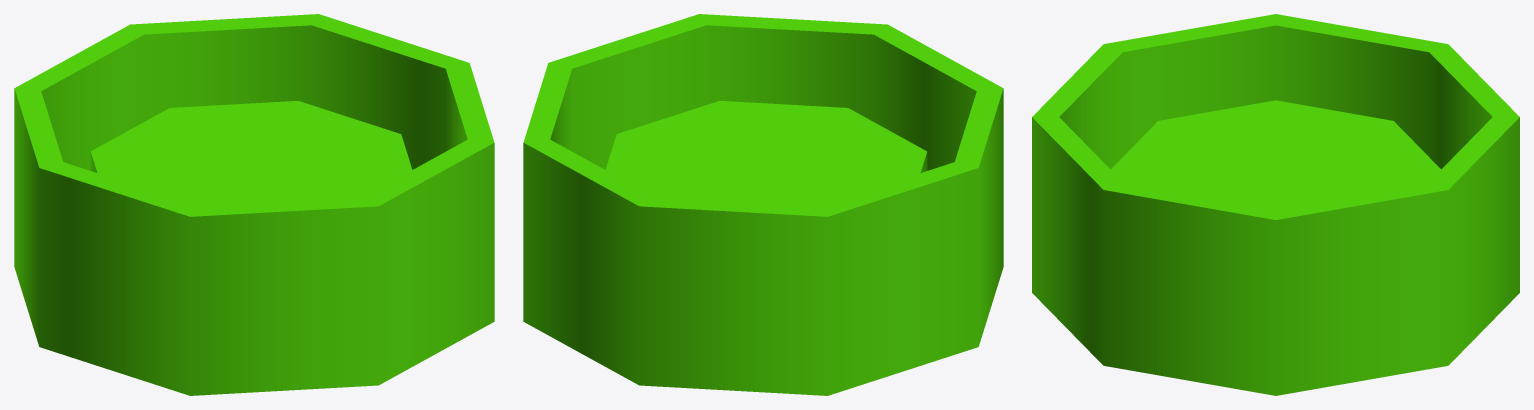
File: shtuka_6.fbx
3 views of the same model, side by side, from view 1: azimuth 30°, elevation 25°; view 2: azimuth 150°, elevation 25°; view 3: azimuth 270°, elevation 25° (orthographic).
Parts seen in each view (by area): view 1: shtuka; view 2: shtuka; view 3: shtuka.
Boxes of the visible parts, left/top/right/bottom form: shtuka: left=14, top=14, right=494, bottom=395; shtuka: left=523, top=14, right=1003, bottom=395; shtuka: left=1032, top=14, right=1519, bottom=395.
Bounding box in the file's own units: 16.2 × 6.44 × 16.2.
